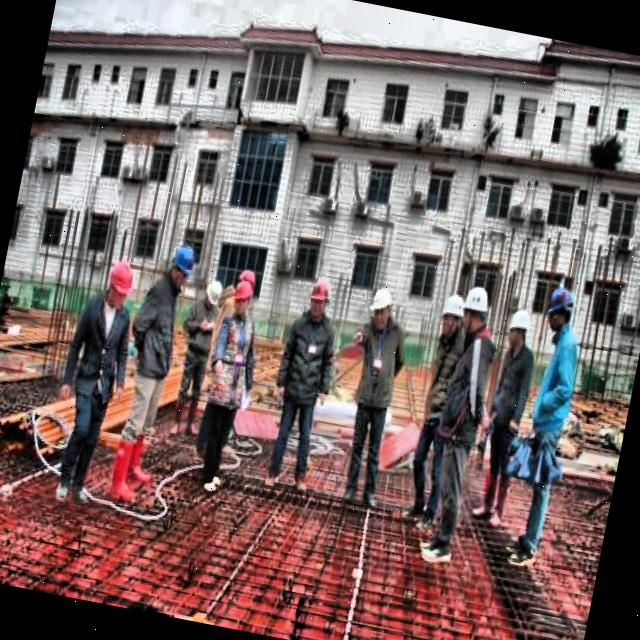helmet: (98, 255, 142, 318), (540, 280, 580, 340), (456, 281, 496, 341), (434, 288, 472, 346), (163, 239, 201, 294), (364, 284, 398, 336), (504, 301, 536, 353), (304, 274, 334, 322), (199, 275, 228, 315), (234, 266, 262, 299), (231, 280, 254, 318)
